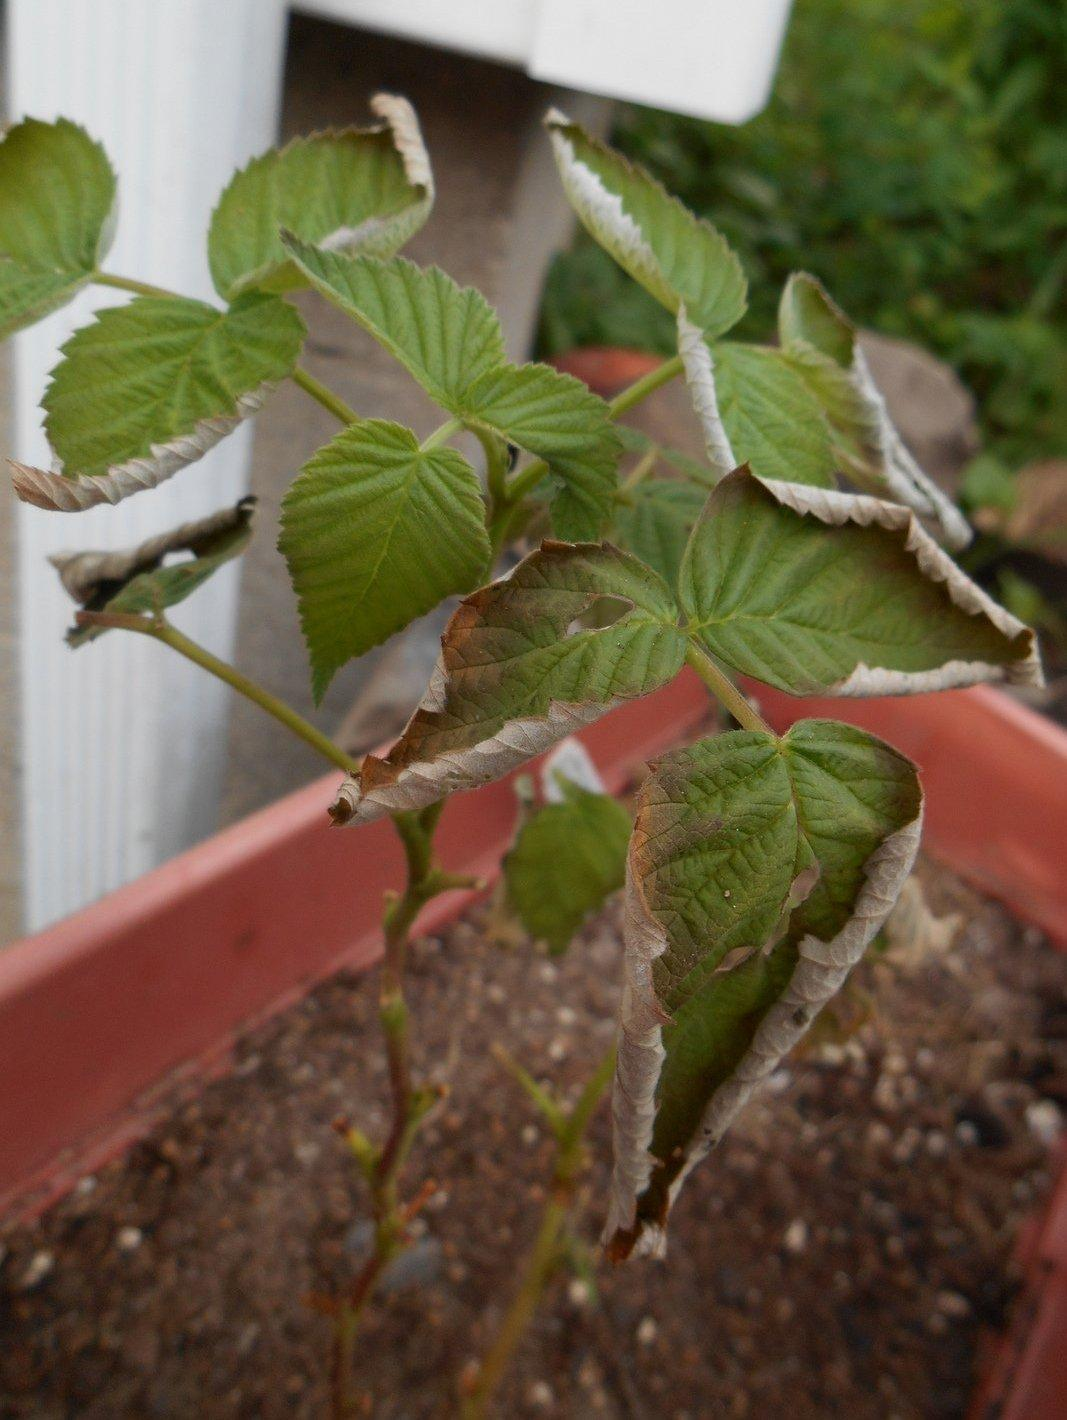Raspberry leaf: (603, 731, 925, 1251), (319, 529, 683, 835), (681, 451, 1054, 705), (282, 415, 488, 695), (275, 228, 519, 425), (460, 366, 629, 549)
